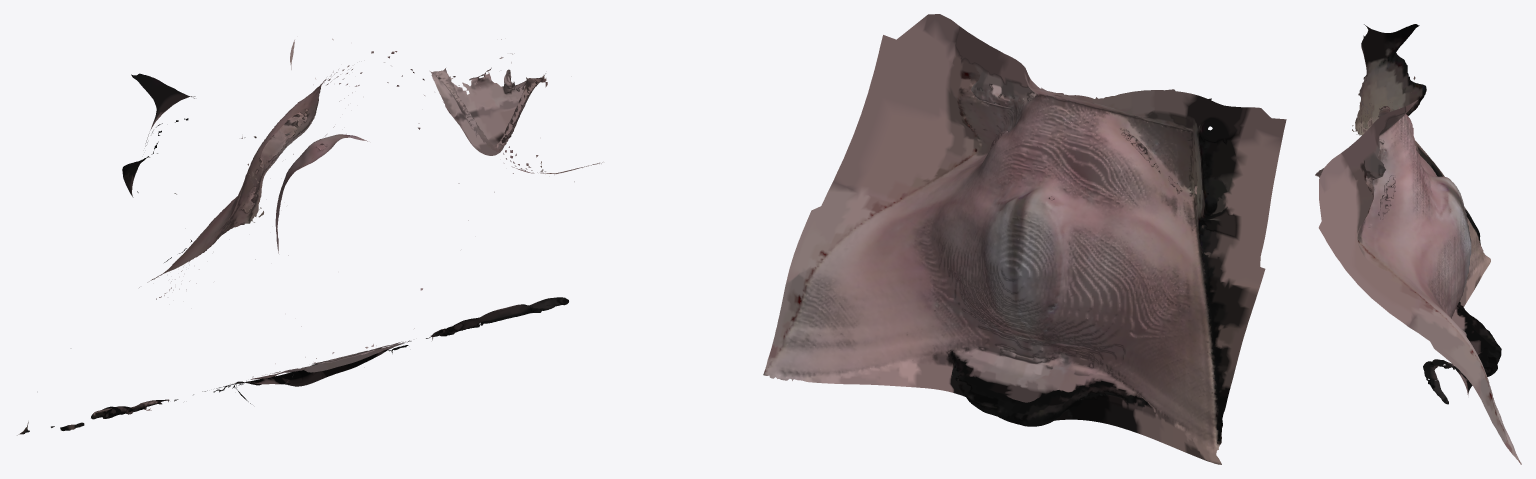
The picture shows the model from 3 angles, left to right: view 1: azimuth 30°, elevation 25°; view 2: azimuth 150°, elevation 25°; view 3: azimuth 270°, elevation 25°; orthographic projection. The views are drawn at different scales.
Bounding box in the file's own units: 0.00149 × 0.000983 × 0.000674.
